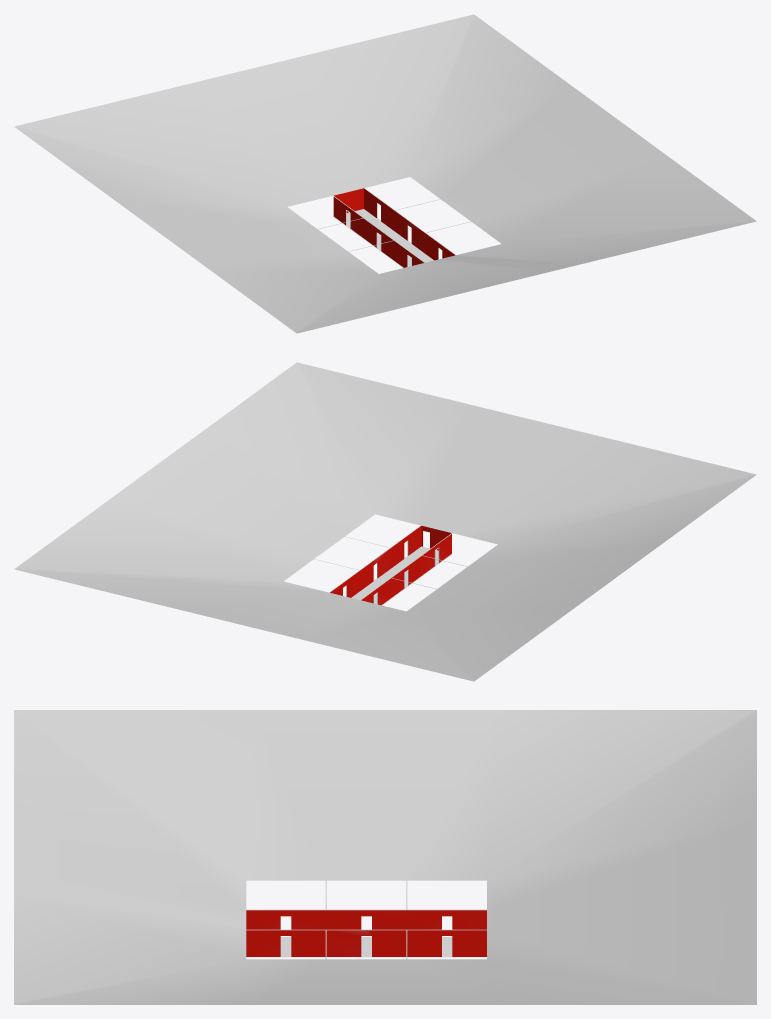
The model's file is Hall.fbx.
3 renders of one model, top to bottom at view 1: azimuth 30°, elevation 25°; view 2: azimuth 150°, elevation 25°; view 3: azimuth 270°, elevation 25°, orthographic. The views are drawn at different scales.
Visible parts, largest first — view 1: cache_black_ext, Apartments, Ground; view 2: cache_black_ext, Apartments, Ground; view 3: cache_black_ext, Apartments, Ground.
Part boxes in pixels (<box>): cache_black_ext: <box>14,14,756,333</box>; Apartments: <box>333,188,454,267</box>; Ground: <box>333,209,433,267</box>; cache_black_ext: <box>14,362,756,681</box>; Apartments: <box>330,525,451,605</box>; Ground: <box>351,546,451,605</box>; cache_black_ext: <box>14,710,756,1004</box>; Apartments: <box>246,910,486,956</box>; Ground: <box>246,937,486,957</box>.
Size of the model in its own units: 6060 by 847 by 6453.
